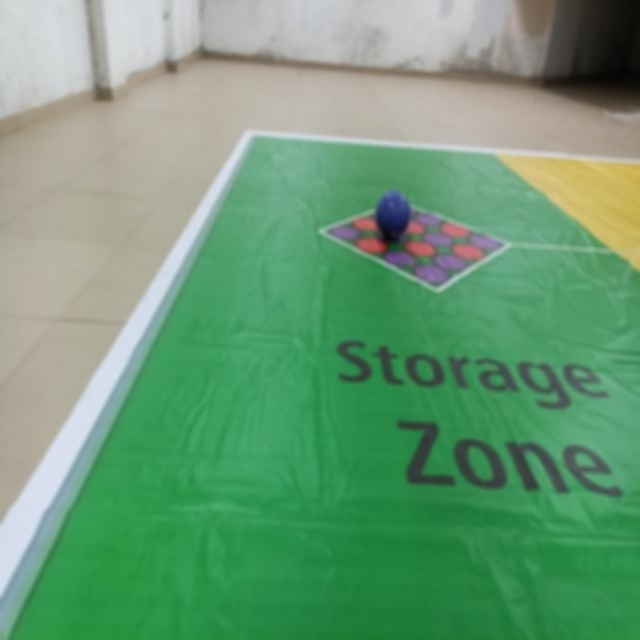purple_ball: (375, 190, 411, 239)
